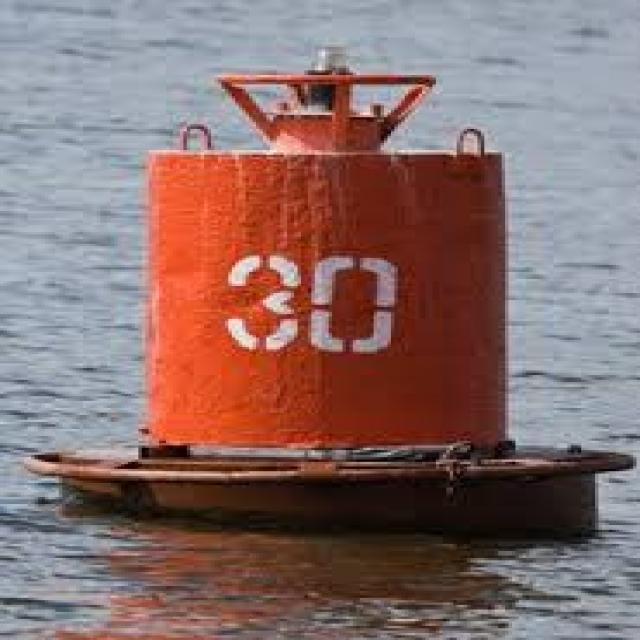buoy: (43, 39, 629, 562)
